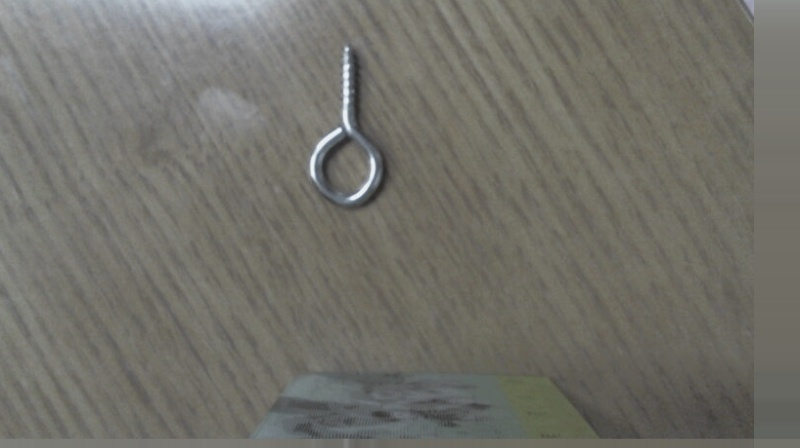O001: (302, 42, 392, 215)
